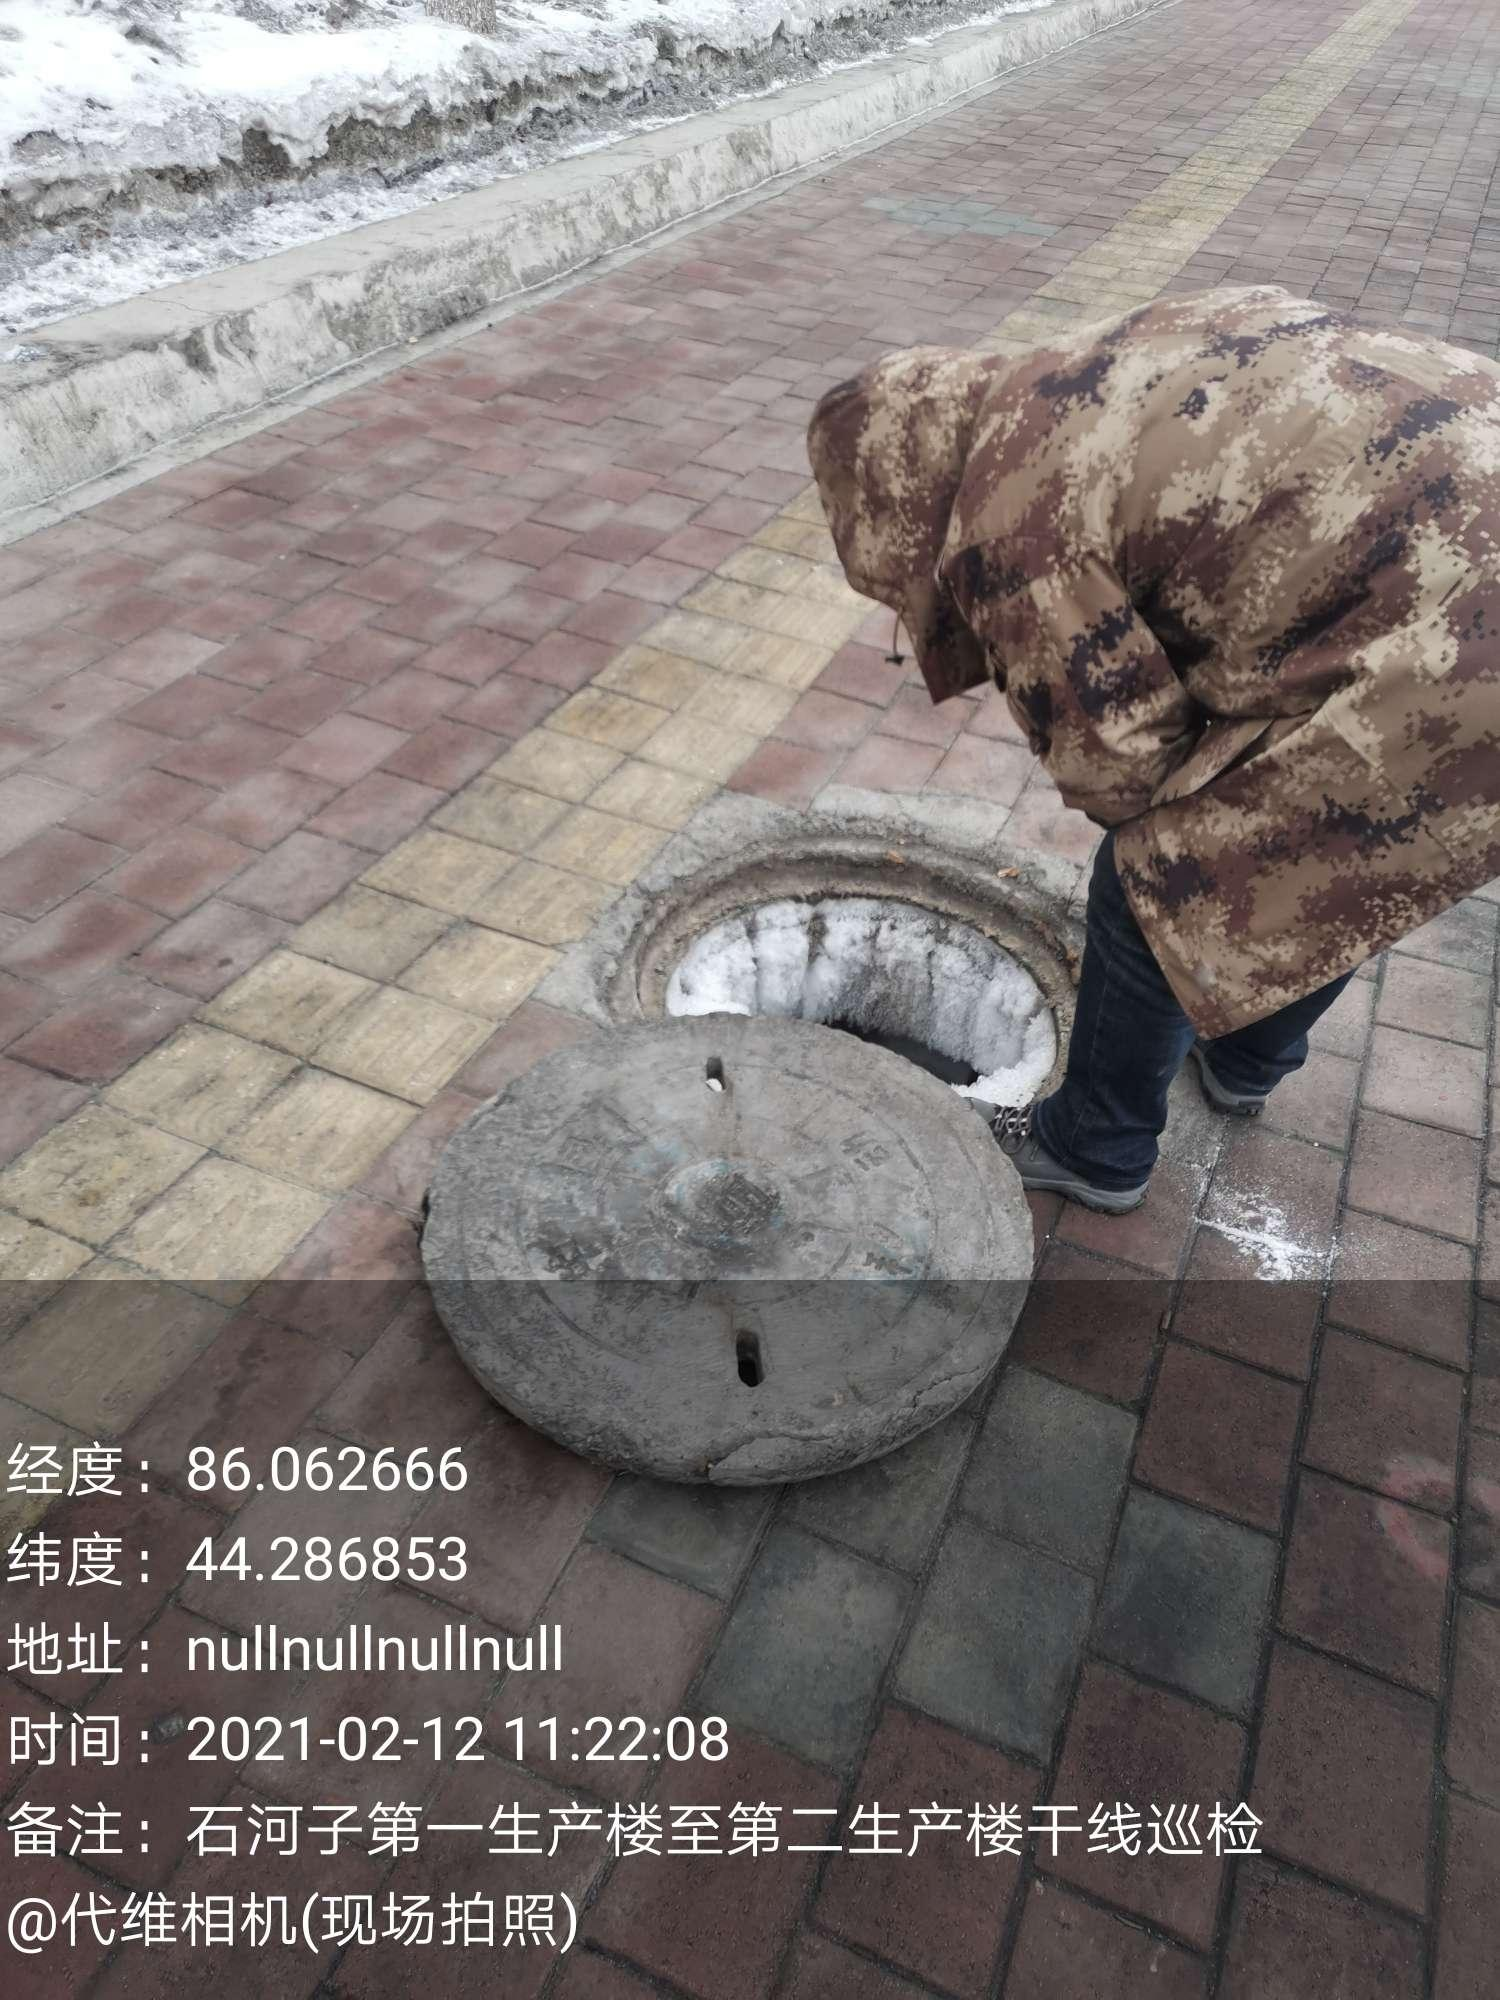wellcover: (375, 712, 1120, 1501)
